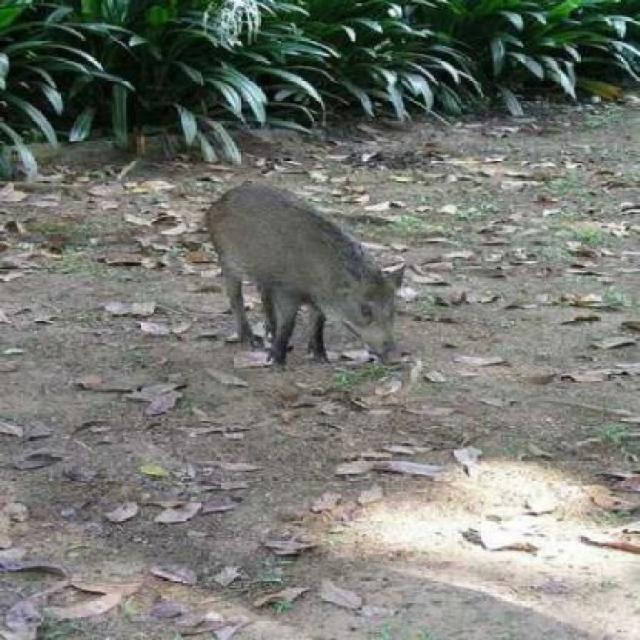pig: (203, 160, 433, 355)
